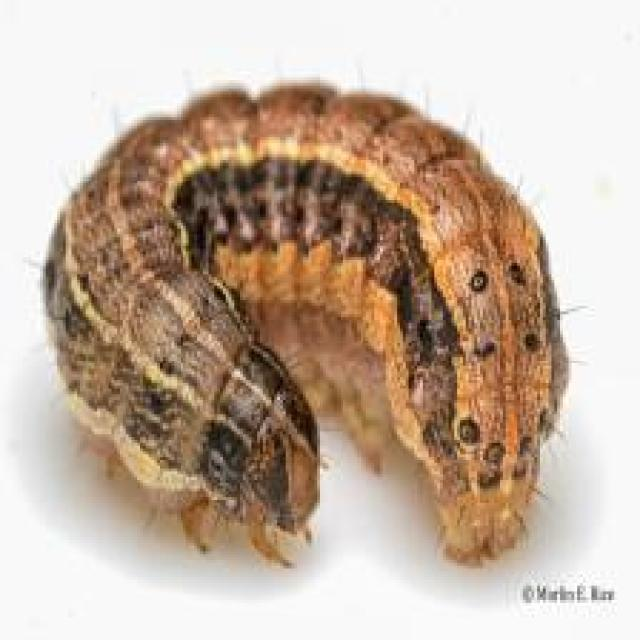Plaga: (47, 58, 570, 578)
